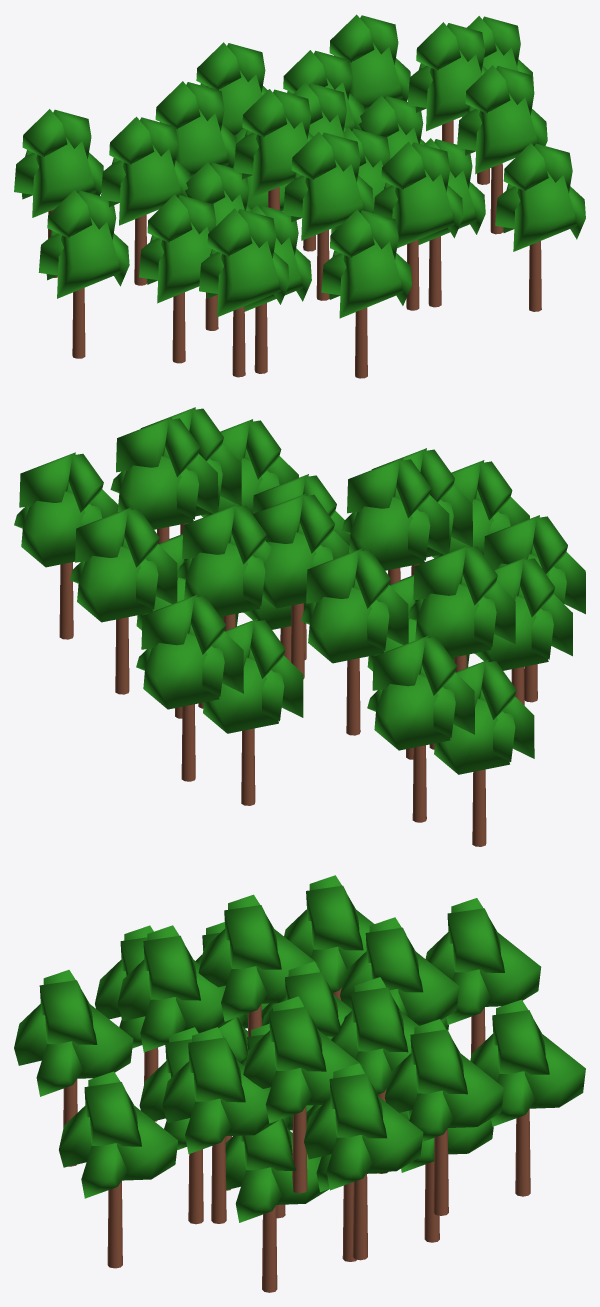
Rendered from tree.gltf.
3 views of the same model, one above another, from view 1: azimuth 30°, elevation 25°; view 2: azimuth 150°, elevation 25°; view 3: azimuth 270°, elevation 25° (orthographic). The views are drawn at different scales.
Parts seen in each view (by area): view 1: Tree_41_summer.008, Tree_41_summer.004, Tree_41_summer.020, Tree_41_summer.011, Tree_41_summer.005, Tree_41_summer.017, Tree_41_summer.009, Tree_41_summer.016, Tree_41_summer.012, Tree_41_summer.010, Tree_41_summer.001, Tree_41_summer.013 (+12 smaller); view 2: Tree_41_summer.002, Tree_41_summer.022, Tree_41_summer.014, Tree_41_summer.010, Tree_41_summer.001, Tree_41_summer.009, Tree_41_summer.013, Tree_41_summer.018, Tree_41_summer.021, Tree_41_summer.023, Tree_41_summer.011, Tree_41_summer.006 (+10 smaller); view 3: Tree_41_summer.020, Tree_41_summer.018, Tree_41_summer.014, Tree_41_summer.017, Tree_41_summer.008, Tree_41_summer.022, Tree_41_summer.013, Tree_41_summer.010, Tree_41_summer.001, Tree_41_summer.005, Tree_41_summer.019, Tree_41_summer.002 (+9 smaller).
Boxes of the visible parts, x1=… form: Tree_41_summer.008: x1=321, y1=209, x2=411, y2=378; Tree_41_summer.004: x1=199, y1=208, x2=289, y2=377; Tree_41_summer.020: x1=495, y1=143, x2=585, y2=311; Tree_41_summer.011: x1=38, y1=190, x2=129, y2=358; Tree_41_summer.005: x1=283, y1=132, x2=373, y2=300; Tree_41_summer.017: x1=457, y1=65, x2=547, y2=234; Tree_41_summer.009: x1=100, y1=116, x2=190, y2=285; Tree_41_summer.016: x1=373, y1=141, x2=463, y2=310; Tree_41_summer.012: x1=139, y1=194, x2=216, y2=363; Tree_41_summer.010: x1=14, y1=109, x2=103, y2=277; Tree_41_summer.001: x1=234, y1=89, x2=313, y2=210; Tree_41_summer.013: x1=407, y1=22, x2=486, y2=143; Tree_41_summer.002: x1=301, y1=548, x2=408, y2=735; Tree_41_summer.022: x1=136, y1=594, x2=243, y2=781; Tree_41_summer.014: x1=70, y1=507, x2=177, y2=694; Tree_41_summer.010: x1=367, y1=635, x2=474, y2=822; Tree_41_summer.001: x1=341, y1=458, x2=449, y2=584; Tree_41_summer.009: x1=408, y1=545, x2=515, y2=672; Tree_41_summer.013: x1=110, y1=417, x2=218, y2=543; Tree_41_summer.018: x1=14, y1=452, x2=118, y2=639; Tree_41_summer.021: x1=177, y1=504, x2=272, y2=631; Tree_41_summer.023: x1=203, y1=619, x2=303, y2=805; Tree_41_summer.011: x1=434, y1=659, x2=534, y2=846; Tree_41_summer.006: x1=252, y1=493, x2=349, y2=679; Tree_41_summer.020: x1=59, y1=1071, x2=178, y2=1268; Tree_41_summer.018: x1=304, y1=1063, x2=423, y2=1260; Tree_41_summer.014: x1=384, y1=1019, x2=503, y2=1215; Tree_41_summer.017: x1=162, y1=1027, x2=278, y2=1223; Tree_41_summer.008: x1=14, y1=970, x2=133, y2=1166; Tree_41_summer.022: x1=470, y1=999, x2=585, y2=1196; Tree_41_summer.013: x1=243, y1=996, x2=362, y2=1193; Tree_41_summer.010: x1=425, y1=898, x2=541, y2=1056; Tree_41_summer.001: x1=198, y1=894, x2=317, y2=1053; Tree_41_summer.005: x1=117, y1=925, x2=233, y2=1052; Tree_41_summer.019: x1=225, y1=1119, x2=329, y2=1292; Tree_41_summer.002: x1=340, y1=917, x2=459, y2=1025.
Bounding box in the file's own units: 6.79 × 3.85 × 6.2.
Materials: 1 (1 with a texture image).
